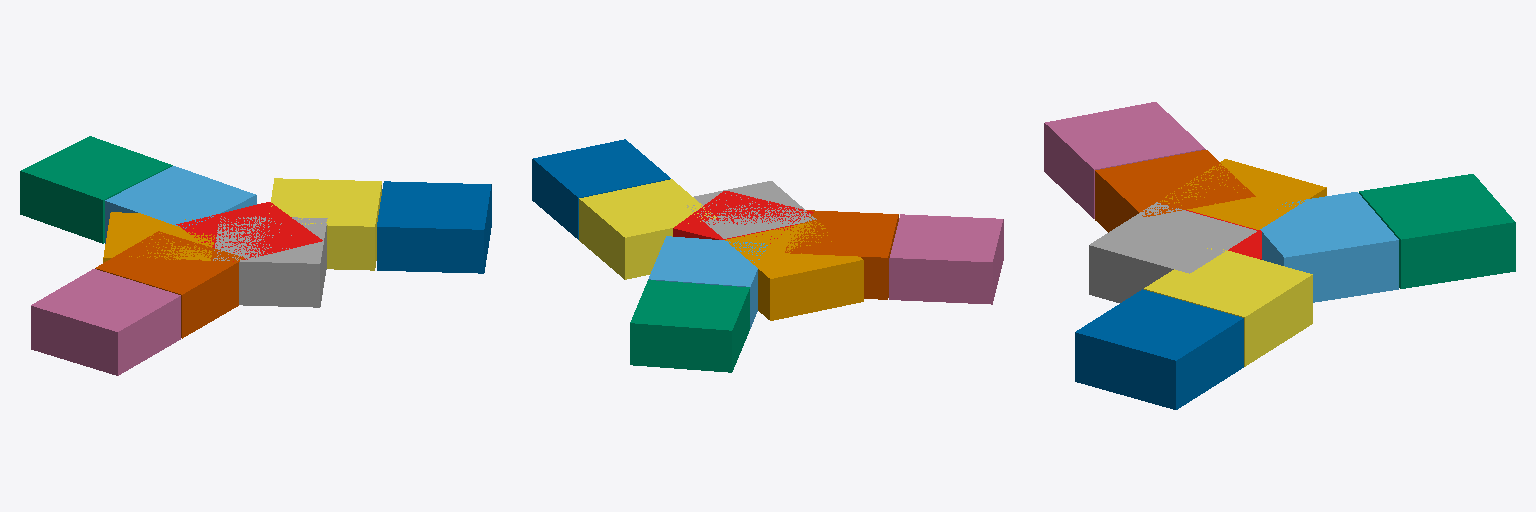
The robot description file, URDF, robot "Model_Models/Model_186.urdf2":
<?xml version='1.0' encoding='UTF-8'?>
<robot name="Model_Models/Model_186.urdf2">
  <link name="base_link">
    <inertial>
      <origin xyz="0.0 0.0 0.0" rpy="0.0 -0.0 0.0"/>
      <mass value="1.0"/>
      <inertia ixx="1.0" ixy="0.0" ixz="0.0" iyy="1.0" iyz="0.0" izz="1.0"/>
    </inertial>
    <visual>
      <geometry>
        <box size="0.67 0.67 0.3 "/>
      </geometry>
      <material name="red"/>
      <origin xyz="0.0 0.0 0.0" rpy="0.0 -0.0 0.0"/>
    </visual>
    <collision>
      <geometry>
        <box size="0.67 0.67 0.3 "/>
      </geometry>
      <origin xyz="0.0 0.0 0.0" rpy="0.0 0.0 0.0"/>
    </collision>
  </link>
  <link name="arm_0_arm1">
    <inertial>
      <origin xyz="0.0 0.34 0.0" rpy="0.0 0.0 0.0"/>
      <mass value="1.0"/>
      <inertia ixx="0.0" ixy="0.0" ixz="0.0" iyy="0.0" iyz="0.0" izz="0.0"/>
    </inertial>
    <visual>
      <geometry>
        <box size="0.67 0.67 0.3 "/>
      </geometry>
      <origin xyz="0.0 0.34 0.0" rpy="0.0 0.0 0.0"/>
    </visual>
    <collision>
      <geometry>
        <box size="0.67 0.67 0.3 "/>
      </geometry>
      <origin xyz="0.0 0.34 0.0" rpy="0.0 0.0 0.0"/>
    </collision>
  </link>
  <link name="arm_0_arm2">
    <inertial>
      <origin xyz="0.0 0.34 0.0" rpy="0.0 0.0 0.0"/>
      <mass value="1.0"/>
      <inertia ixx="0.0" ixy="0.0" ixz="0.0" iyy="0.0" iyz="0.0" izz="0.0"/>
    </inertial>
    <visual>
      <geometry>
        <box size="0.67 0.67 0.3 "/>
      </geometry>
      <origin xyz="0.0 0.34 0.0" rpy="0.0 0.0 0.0"/>
    </visual>
    <collision>
      <geometry>
        <box size="0.67 0.67 0.3 "/>
      </geometry>
      <origin xyz="0.0 0.34 0.0" rpy="0.0 0.0 0.0"/>
    </collision>
  </link>
  <link name="arm_2_arm1">
    <inertial>
      <origin xyz="0.0 0.34 0.0" rpy="0.0 0.0 0.0"/>
      <mass value="1.0"/>
      <inertia ixx="0.0" ixy="0.0" ixz="0.0" iyy="0.0" iyz="0.0" izz="0.0"/>
    </inertial>
    <visual>
      <geometry>
        <box size="0.67 0.67 0.3 "/>
      </geometry>
      <origin xyz="0.0 0.34 0.0" rpy="0.0 0.0 0.0"/>
    </visual>
    <collision>
      <geometry>
        <box size="0.67 0.67 0.3 "/>
      </geometry>
      <origin xyz="0.0 0.34 0.0" rpy="0.0 0.0 0.0"/>
    </collision>
  </link>
  <link name="arm_2_arm2">
    <inertial>
      <origin xyz="0.0 0.34 0.0" rpy="0.0 0.0 0.0"/>
      <mass value="1.0"/>
      <inertia ixx="0.0" ixy="0.0" ixz="0.0" iyy="0.0" iyz="0.0" izz="0.0"/>
    </inertial>
    <visual>
      <geometry>
        <box size="0.67 0.67 0.3 "/>
      </geometry>
      <origin xyz="0.0 0.34 0.0" rpy="0.0 0.0 0.0"/>
    </visual>
    <collision>
      <geometry>
        <box size="0.67 0.67 0.3 "/>
      </geometry>
      <origin xyz="0.0 0.34 0.0" rpy="0.0 0.0 0.0"/>
    </collision>
  </link>
  <link name="arm_3_arm1">
    <inertial>
      <origin xyz="0.0 0.34 0.0" rpy="0.0 0.0 0.0"/>
      <mass value="1.0"/>
      <inertia ixx="0.0" ixy="0.0" ixz="0.0" iyy="0.0" iyz="0.0" izz="0.0"/>
    </inertial>
    <visual>
      <geometry>
        <box size="0.67 0.67 0.3 "/>
      </geometry>
      <origin xyz="0.0 0.34 0.0" rpy="0.0 0.0 0.0"/>
    </visual>
    <collision>
      <geometry>
        <box size="0.67 0.67 0.3 "/>
      </geometry>
      <origin xyz="0.0 0.34 0.0" rpy="0.0 0.0 0.0"/>
    </collision>
  </link>
  <link name="arm_3_arm2">
    <inertial>
      <origin xyz="0.0 0.34 0.0" rpy="0.0 0.0 0.0"/>
      <mass value="1.0"/>
      <inertia ixx="0.0" ixy="0.0" ixz="0.0" iyy="0.0" iyz="0.0" izz="0.0"/>
    </inertial>
    <visual>
      <geometry>
        <box size="0.67 0.67 0.3 "/>
      </geometry>
      <origin xyz="0.0 0.34 0.0" rpy="0.0 0.0 0.0"/>
    </visual>
    <collision>
      <geometry>
        <box size="0.67 0.67 0.3 "/>
      </geometry>
      <origin xyz="0.0 0.34 0.0" rpy="0.0 0.0 0.0"/>
    </collision>
  </link>
  <link name="arm_Permutation_2_arm1">
    <inertial>
      <origin xyz="0.0 0.34 0.0" rpy="0.0 0.0 0.0"/>
      <mass value="1.0"/>
      <inertia ixx="0.0" ixy="0.0" ixz="0.0" iyy="0.0" iyz="0.0" izz="0.0"/>
    </inertial>
    <visual>
      <geometry>
        <box size="0.67 0.67 0.3 "/>
      </geometry>
      <origin xyz="0.0 0.34 0.0" rpy="0.0 0.0 0.0"/>
    </visual>
    <collision>
      <geometry>
        <box size="0.67 0.67 0.3 "/>
      </geometry>
      <origin xyz="0.0 0.34 0.0" rpy="0.0 0.0 0.0"/>
    </collision>
  </link>
  <link name="arm_Permutation_2_arm2">
    <inertial>
      <origin xyz="0.0 0.34 0.0" rpy="0.0 0.0 0.0"/>
      <mass value="1.0"/>
      <inertia ixx="0.0" ixy="0.0" ixz="0.0" iyy="0.0" iyz="0.0" izz="0.0"/>
    </inertial>
    <visual>
      <geometry>
        <box size="0.67 0.67 0.3 "/>
      </geometry>
      <origin xyz="0.0 0.34 0.0" rpy="0.0 0.0 0.0"/>
    </visual>
    <collision>
      <geometry>
        <box size="0.67 0.67 0.3 "/>
      </geometry>
      <origin xyz="0.0 0.34 0.0" rpy="0.0 0.0 0.0"/>
    </collision>
  </link>
  <joint name="arm_0_jointBase" type="fixed">
    <limit effort="1.57" velocity="1.57" lower="-1.57" upper="1.57"/>
    <parent link="base_link"/>
    <child link="arm_0_arm1"/>
    <axis xyz="1. 0. 0."/>
    <origin xyz="0.0 0.34 0.0" rpy="0.0 0.0 0.35"/>
  </joint>
  <joint name="arm_0_joint1" type="revolute">
    <limit effort="1.57" velocity="1.57" lower="-1.57" upper="1.57"/>
    <parent link="arm_0_arm1"/>
    <child link="arm_0_arm2"/>
    <axis xyz="1. 0. 0."/>
    <origin xyz="0.0 0.68 0.0" rpy="0.0 0.0 0.0"/>
  </joint>
  <joint name="arm_2_jointBase" type="fixed">
    <limit effort="1.57" velocity="1.57" lower="-1.57" upper="1.57"/>
    <parent link="base_link"/>
    <child link="arm_2_arm1"/>
    <axis xyz="1. 0. 0."/>
    <origin xyz="0.34 0.34 0.0" rpy="0.0 0.0 -2.16"/>
  </joint>
  <joint name="arm_2_joint1" type="revolute">
    <limit effort="1.57" velocity="1.57" lower="-1.57" upper="1.57"/>
    <parent link="arm_2_arm1"/>
    <child link="arm_2_arm2"/>
    <axis xyz="1. 0. 0."/>
    <origin xyz="0.0 0.68 0.0" rpy="0.0 0.0 0.0"/>
  </joint>
  <joint name="arm_3_jointBase" type="fixed">
    <limit effort="1.57" velocity="1.57" lower="-1.57" upper="1.57"/>
    <parent link="base_link"/>
    <child link="arm_3_arm1"/>
    <axis xyz="1. 0. 0."/>
    <origin xyz="-0.34 0.0 0.0" rpy="0.0 0.0 1.99"/>
  </joint>
  <joint name="arm_3_joint1" type="revolute">
    <limit effort="1.57" velocity="1.57" lower="-1.57" upper="1.57"/>
    <parent link="arm_3_arm1"/>
    <child link="arm_3_arm2"/>
    <axis xyz="1. 0. 0."/>
    <origin xyz="0.0 0.68 0.0" rpy="0.0 0.0 0.0"/>
  </joint>
  <joint name="arm_Permutation_2_jointBase" type="fixed">
    <limit effort="1.57" velocity="1.57" lower="-1.57" upper="1.57"/>
    <parent link="base_link"/>
    <child link="arm_Permutation_2_arm1"/>
    <axis xyz="1. 0. 0."/>
    <origin xyz="0.34 -0.34 0.0" rpy="0.0 0.0 0.98"/>
  </joint>
  <joint name="arm_Permutation_2_joint1" type="revolute">
    <limit effort="1.57" velocity="1.57" lower="-1.57" upper="1.57"/>
    <parent link="arm_Permutation_2_arm1"/>
    <child link="arm_Permutation_2_arm2"/>
    <axis xyz="1. 0. 0."/>
    <origin xyz="0.0 0.68 0.0" rpy="0.0 0.0 0.0"/>
  </joint>
  <material name="red">
    <color rgba="0.969 0.129 0.122 1.   "/>
  </material>
</robot>

--- Render facts (derived) ---
The picture shows the robot from 3 angles, left to right: view 1: azimuth 30°, elevation 25°; view 2: azimuth 150°, elevation 25°; view 3: azimuth 270°, elevation 25°; orthographic projection.
Robot: Model_Models/Model_186.urdf2 — 9 links, 8 joints (4 revolute, 4 fixed); root link base_link; default pose: every joint at zero.
Links seen in each view (by area): view 1: arm_3_arm2, arm_2_arm2, arm_0_arm2, arm_3_arm1, arm_2_arm1, arm_Permutation_2_arm1, arm_0_arm1, base_link, arm_Permutation_2_arm2; view 2: arm_0_arm2, arm_3_arm2, arm_2_arm1, arm_Permutation_2_arm2, arm_2_arm2, arm_3_arm1, arm_0_arm1, arm_Permutation_2_arm1, base_link; view 3: arm_2_arm2, arm_0_arm2, arm_0_arm1, arm_2_arm1, arm_Permutation_2_arm1, arm_3_arm2, arm_3_arm1, arm_Permutation_2_arm2, base_link.
Boxes of the visible links, x1,y1,x2,y2 form: arm_3_arm2: (31, 269, 180, 375); arm_2_arm2: (377, 181, 491, 273); arm_0_arm2: (20, 136, 172, 243); arm_3_arm1: (95, 231, 244, 338); arm_2_arm1: (269, 178, 381, 270); arm_Permutation_2_arm1: (213, 216, 327, 307); arm_0_arm1: (105, 166, 256, 243); base_link: (176, 202, 322, 261); arm_Permutation_2_arm2: (103, 212, 214, 262); arm_0_arm2: (630, 280, 749, 372); arm_3_arm2: (889, 214, 1003, 304); arm_2_arm1: (579, 179, 716, 279); arm_Permutation_2_arm2: (725, 221, 863, 320); arm_2_arm2: (532, 139, 670, 239); arm_3_arm1: (785, 210, 898, 299); arm_0_arm1: (648, 236, 767, 328); arm_Permutation_2_arm1: (687, 181, 816, 238); base_link: (673, 191, 813, 243); arm_2_arm2: (1075, 289, 1243, 409); arm_0_arm2: (1359, 174, 1515, 288); arm_0_arm1: (1260, 192, 1398, 302); arm_2_arm1: (1144, 248, 1312, 366); arm_Permutation_2_arm1: (1089, 202, 1256, 302); arm_3_arm2: (1044, 102, 1205, 218); arm_3_arm1: (1095, 150, 1255, 232); arm_Permutation_2_arm2: (1160, 159, 1326, 229); base_link: (1186, 210, 1261, 259).
Size in the robot's own frame: 3.37 by 2.59 by 0.3 metres.
Geometry: primitives only (box / cylinder / sphere), no mesh files.